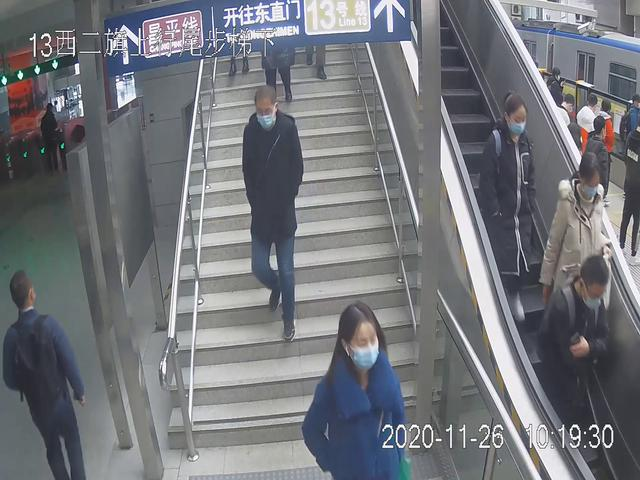person: (297, 292, 409, 480), (1, 259, 88, 480), (237, 82, 308, 345), (532, 148, 613, 351), (477, 81, 541, 331), (536, 253, 614, 457)
